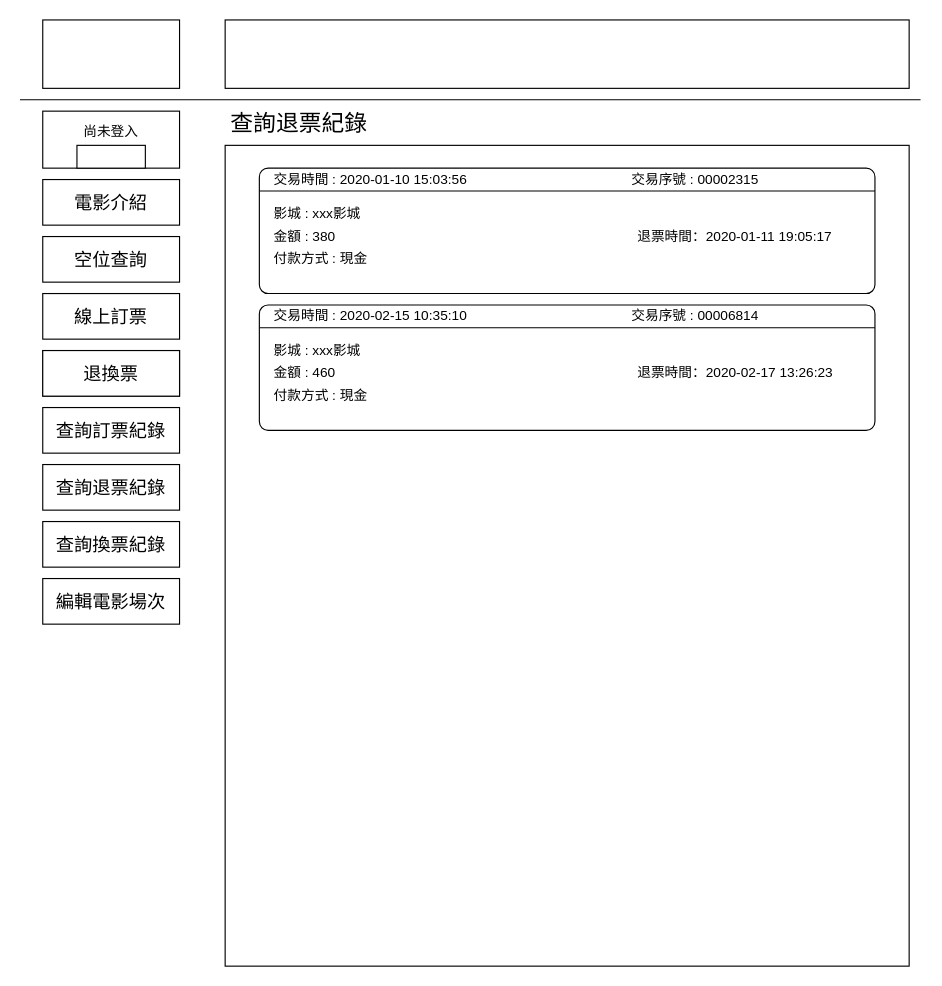
This 942x986 diagram has some shape labels left out. The shapes that lost their labels are listed below. From the top down, each one's centre as x and y in pixels, then its label:
point 111,53: 電影院 訂票系統
point 566,53: 影城名稱
point 110,156: 登入/註冊
